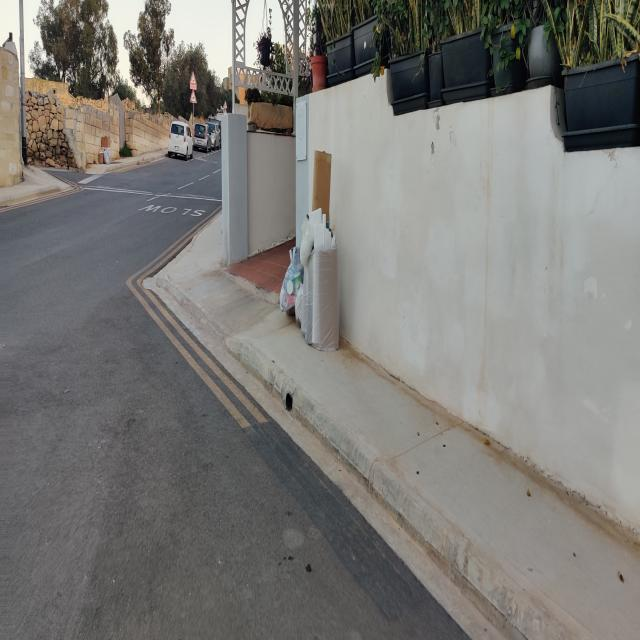Others Waste: (98, 135, 111, 165)
Recyclable Material -Grey Bags-: (277, 144, 342, 356)
